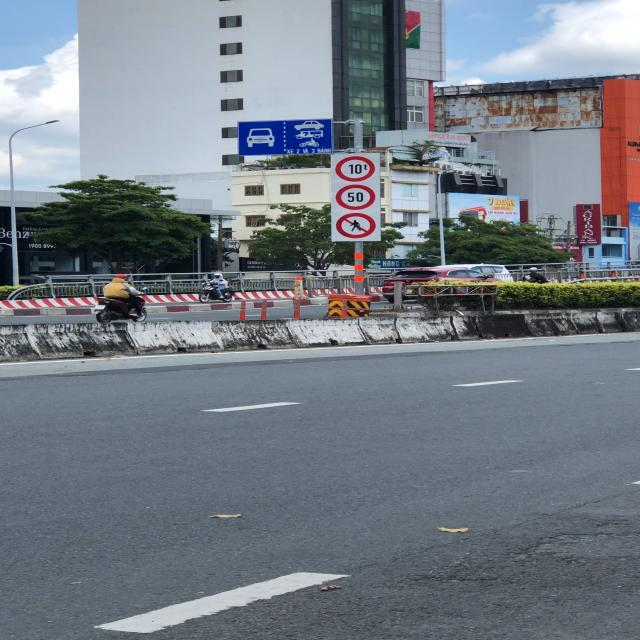Bien bao cam nguoi di bo: (330, 210, 384, 241)
Bien bao toc do toi da cho phep: (331, 182, 376, 212)
